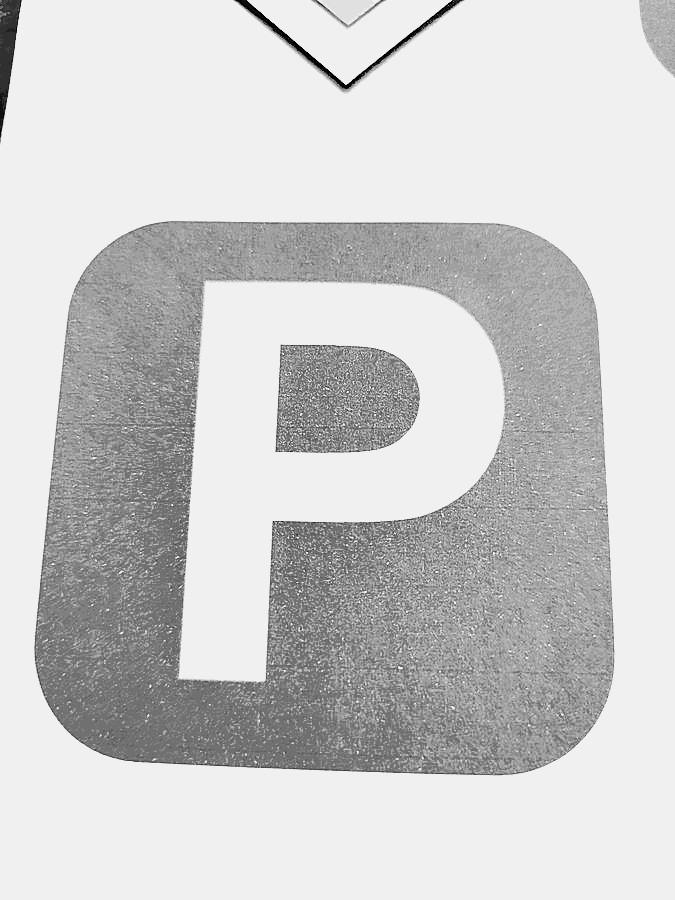parking: (38, 220, 615, 775)
